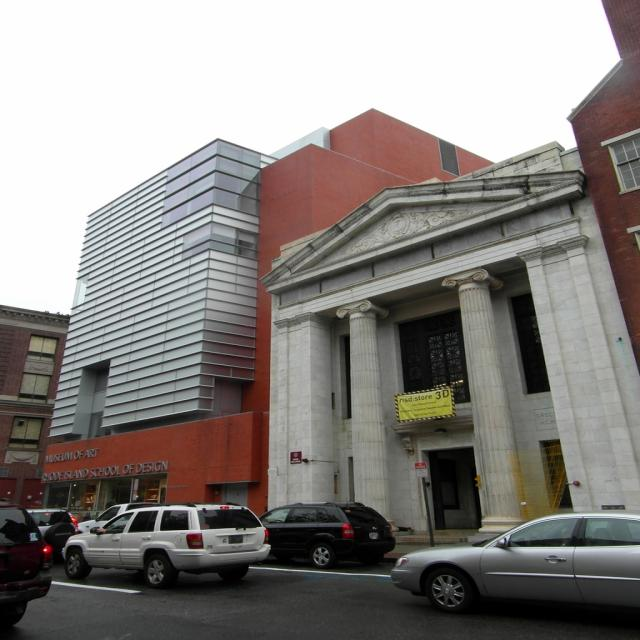car: (59, 498, 270, 584)
